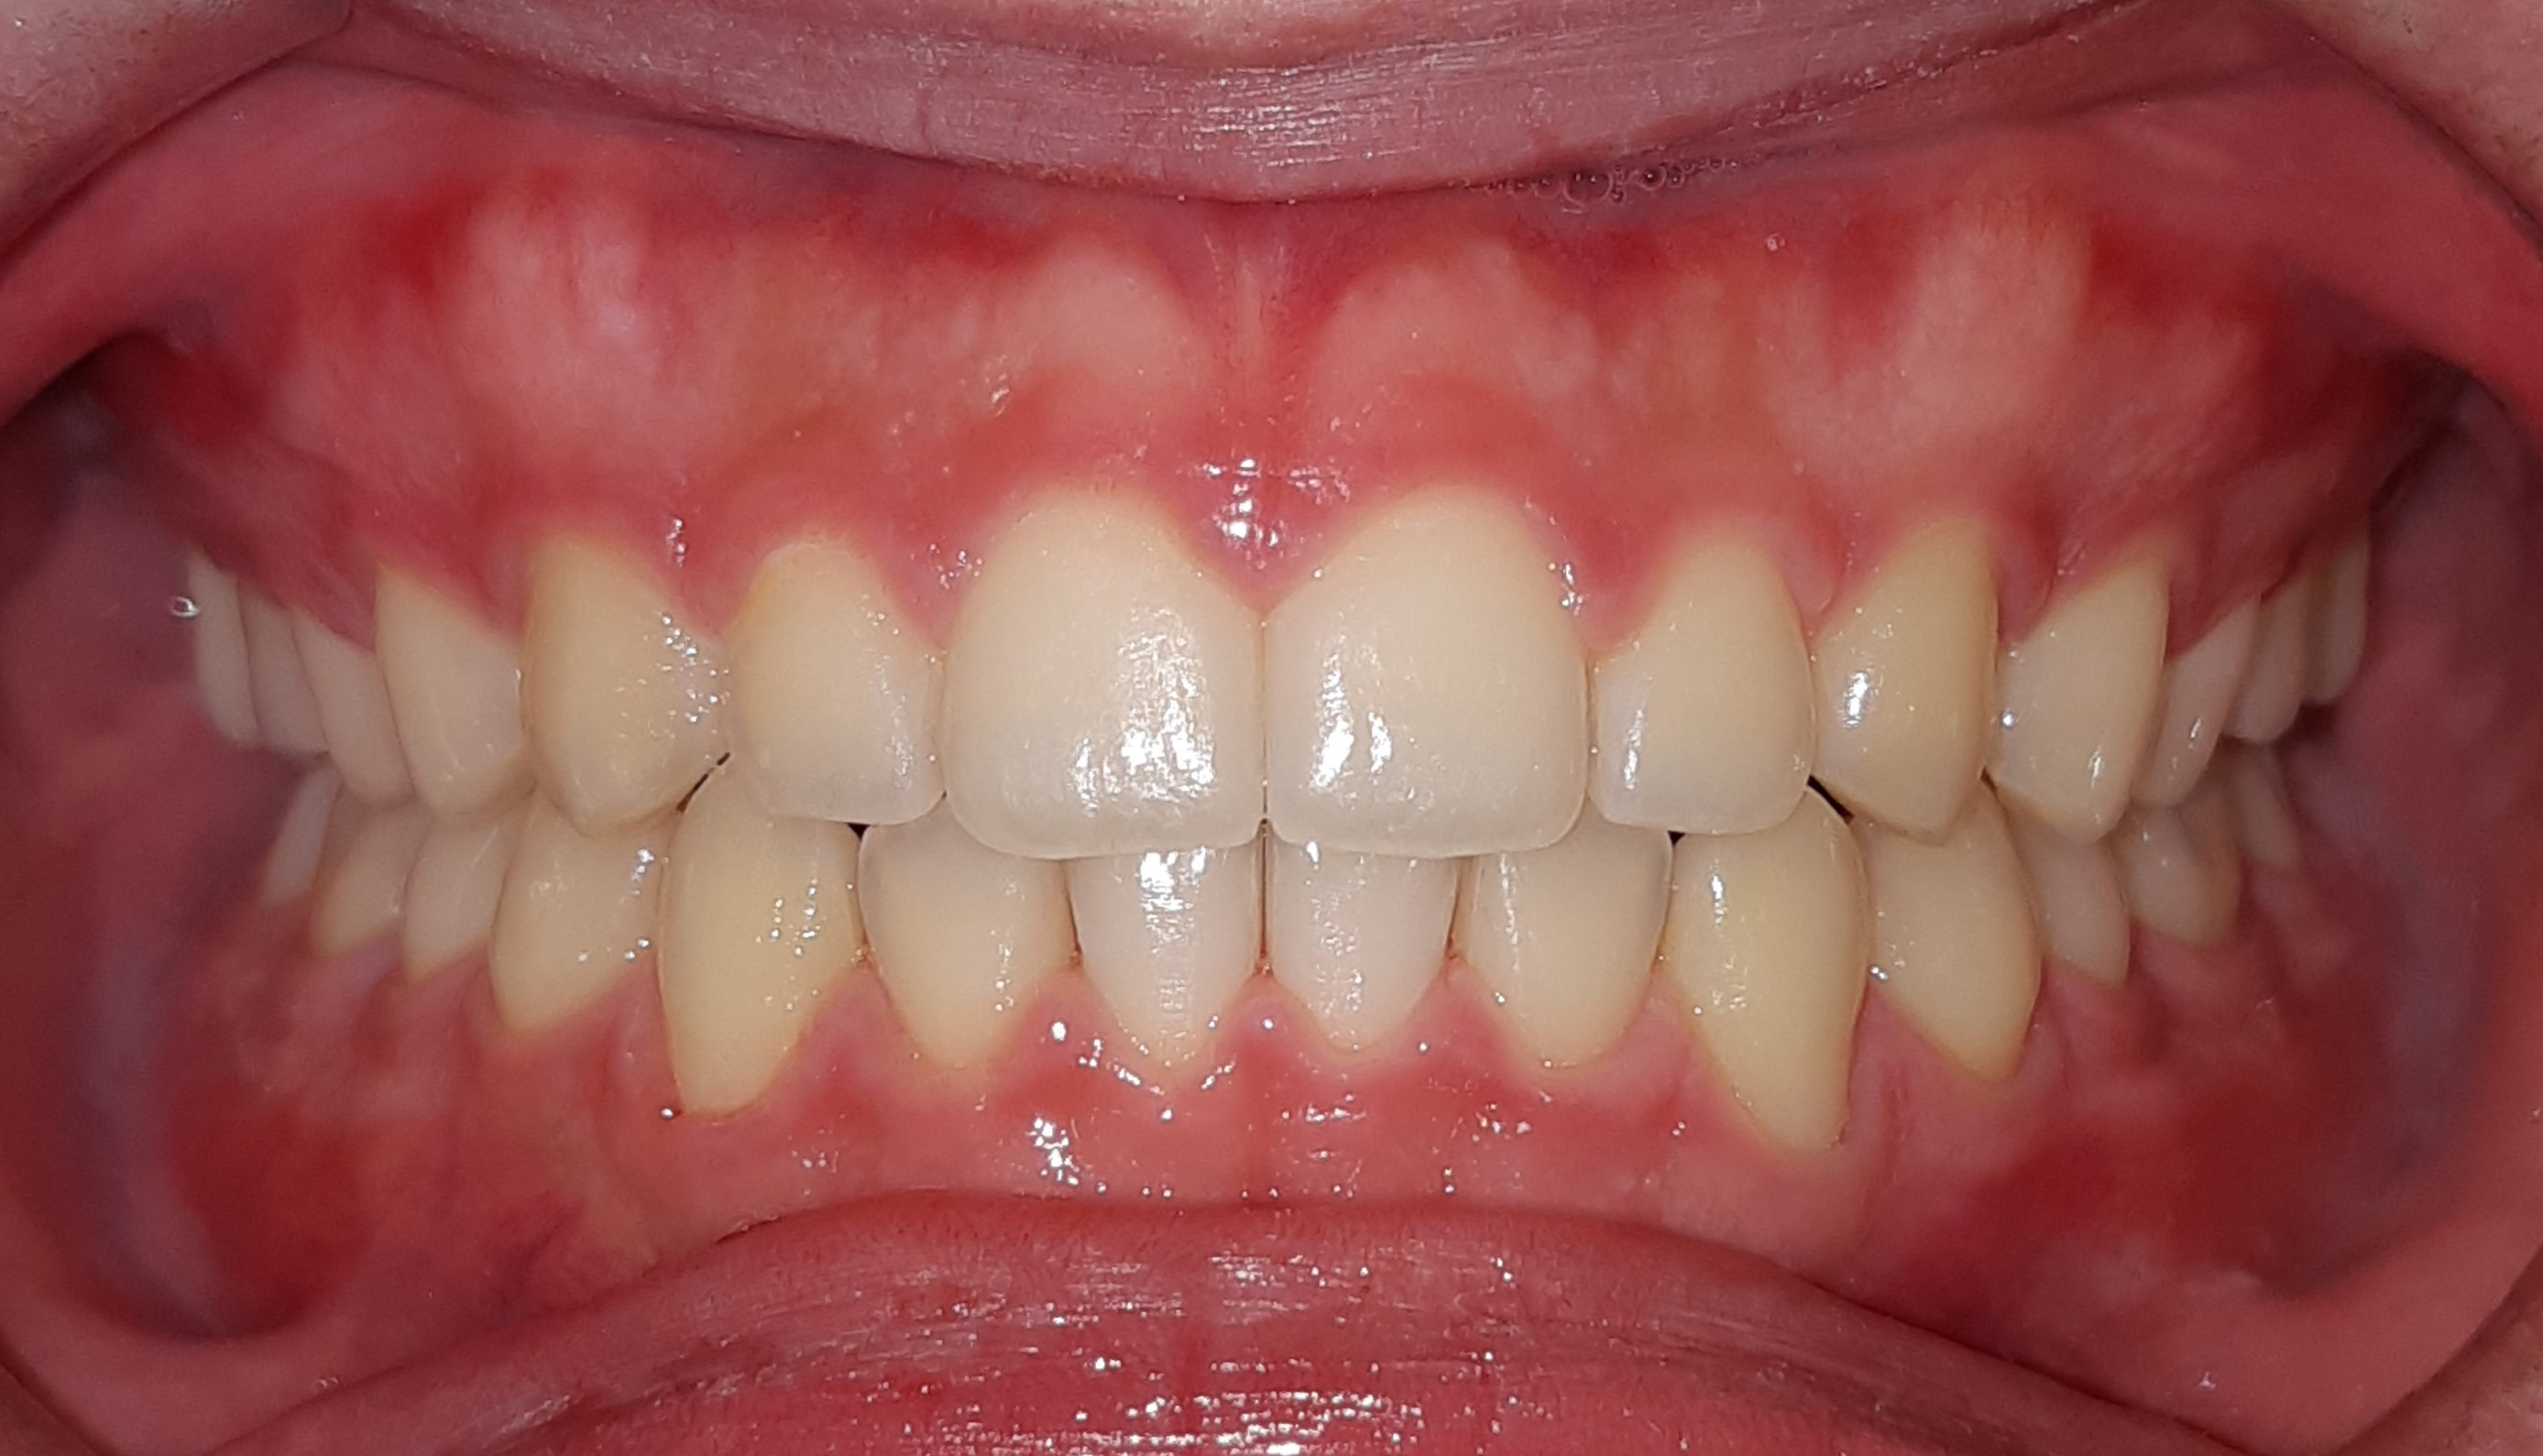LL1BC_healthy: (1869, 824, 2043, 1075)
LL1M_healthy: (2140, 824, 2243, 946)
LL2BC_healthy: (2033, 843, 2131, 990)
LL2M_healthy: (2234, 761, 2293, 869)
LLCI_healthy: (1268, 857, 1457, 1042)
LLC_healthy: (1671, 834, 1878, 1149)
LLLI_healthy: (1465, 850, 1673, 1063)
LR1BC_healthy: (494, 838, 653, 1030)
LR1M_healthy: (311, 821, 398, 951)
LR2BC_healthy: (405, 819, 500, 978)
LR2M_healthy: (267, 787, 321, 911)
LRCI_healthy: (1072, 857, 1256, 1060)
LRC_healthy: (658, 821, 851, 1110)
LRLI_healthy: (856, 831, 1072, 1070)
UL1BC_healthy: (1996, 559, 2166, 845)
UL1M_healthy: (2244, 567, 2300, 742)
UL2BC_healthy: (2154, 599, 2255, 808)
UL2M_healthy: (2312, 548, 2368, 705)
ULCI_healthy: (1261, 492, 1588, 859)
ULC_healthy: (1816, 527, 1996, 838)
ULLI_healthy: (1595, 541, 1816, 831)
UR1BC_healthy: (379, 580, 524, 819)
UR1M_healthy: (248, 576, 316, 754)
UR2BC_healthy: (292, 616, 405, 812)
UR2M_healthy: (190, 557, 253, 742)
URCI_healthy: (943, 499, 1265, 859)
URC_healthy: (522, 553, 732, 826)
URLI_healthy: (732, 552, 943, 821)
